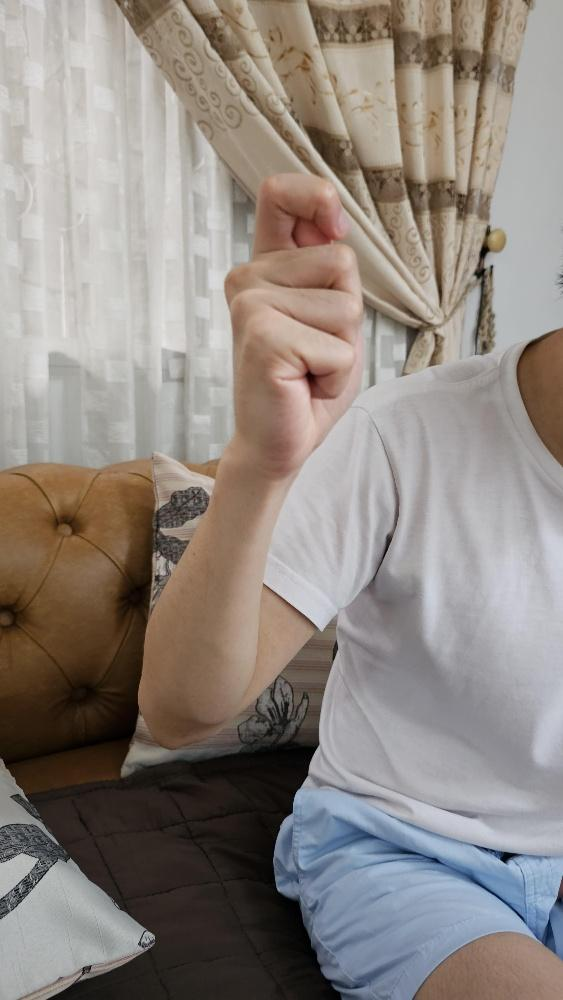t: (220, 169, 366, 481)
